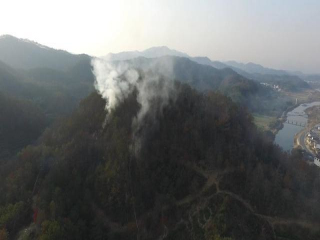smoke: (89, 48, 199, 138)
